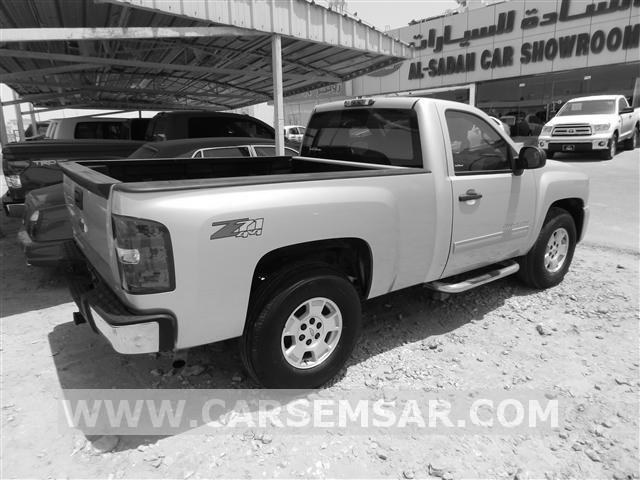car: (27, 80, 613, 402)
